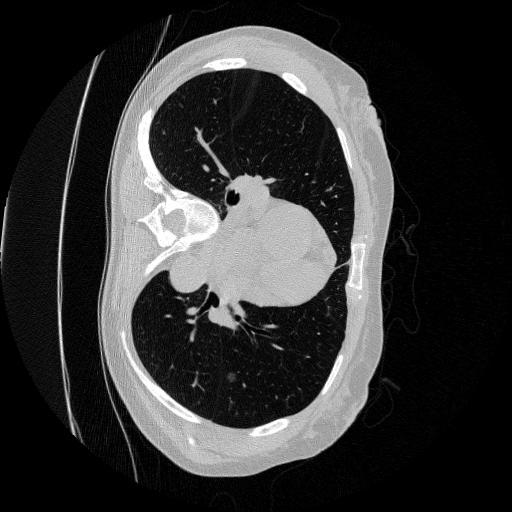nodule: (225, 370, 240, 385)
